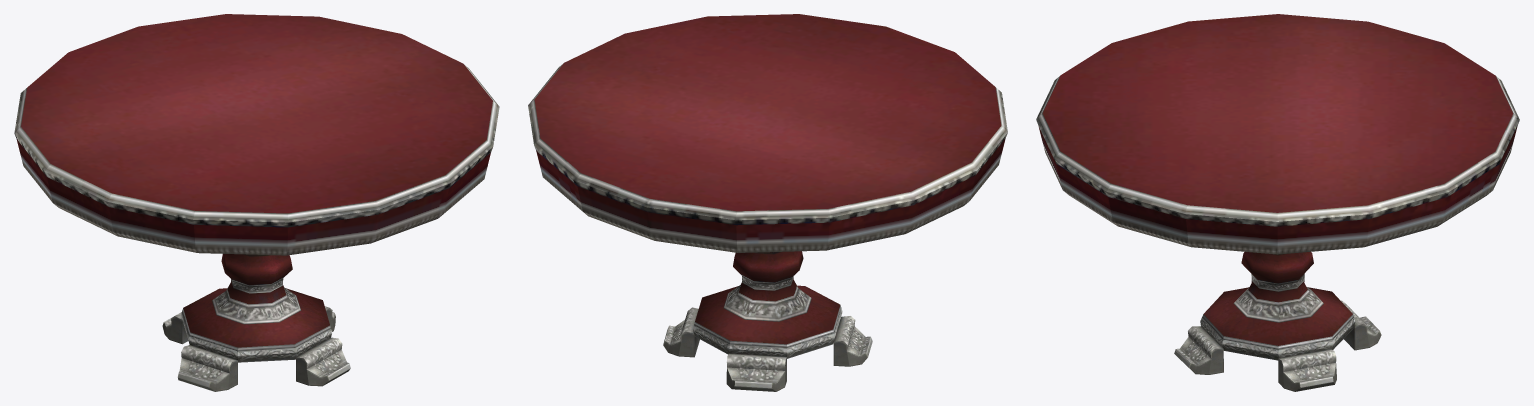
Rendered from furni_0201106_02.FBX.
3 renders of one model, left to right at view 1: azimuth 30°, elevation 25°; view 2: azimuth 150°, elevation 25°; view 3: azimuth 270°, elevation 25°, orthographic.
Visible parts, largest first — view 1: furni_0201106_02; view 2: furni_0201106_02; view 3: furni_0201106_02.
Boxes of the visible parts, box(x1,y1,x2,y2) form: furni_0201106_02: box(14, 14, 499, 391); furni_0201106_02: box(528, 14, 1007, 391); furni_0201106_02: box(1036, 14, 1519, 391).
Bounding box in the file's own units: 147 × 79.23 × 147.
Materials: 1 (1 with a texture image).
